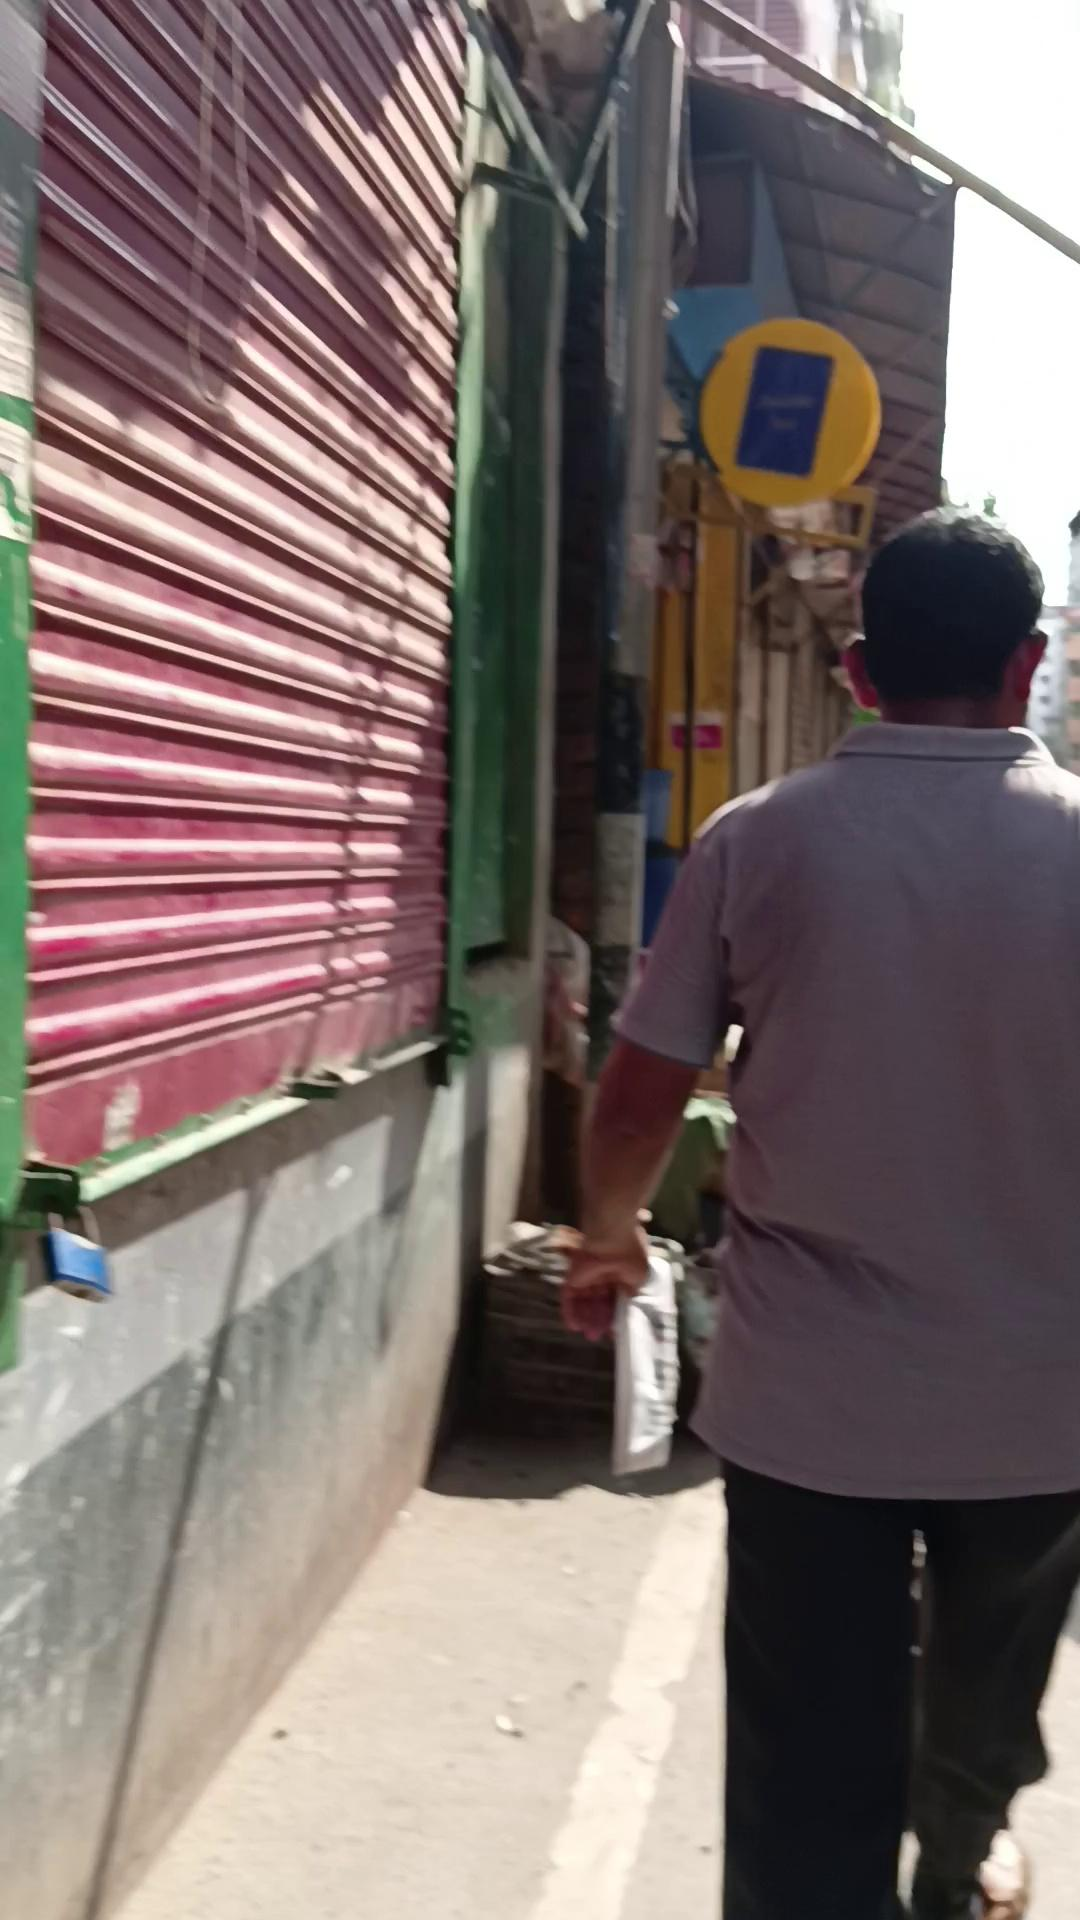Motorcycle: (473, 1218, 684, 1472)
Muddy road: (553, 502, 1079, 1917)
